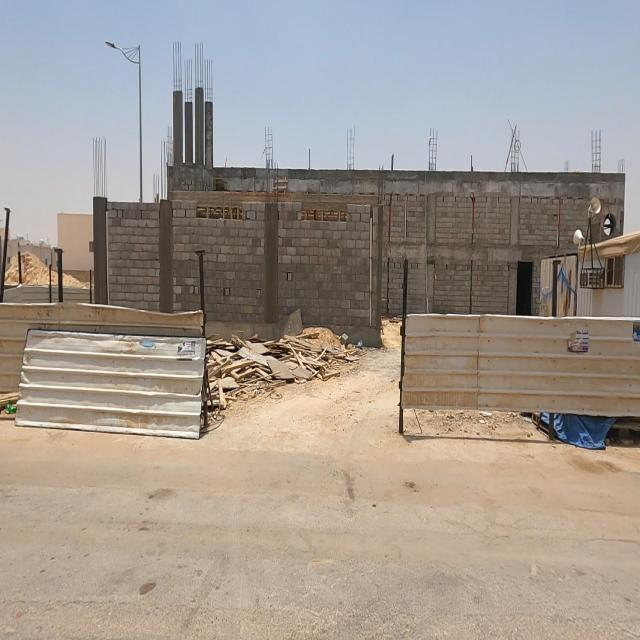debris: (149, 255, 299, 478), (241, 276, 344, 428)
